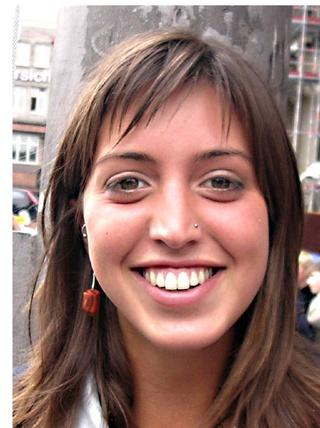No Mask: (48, 65, 297, 368)
